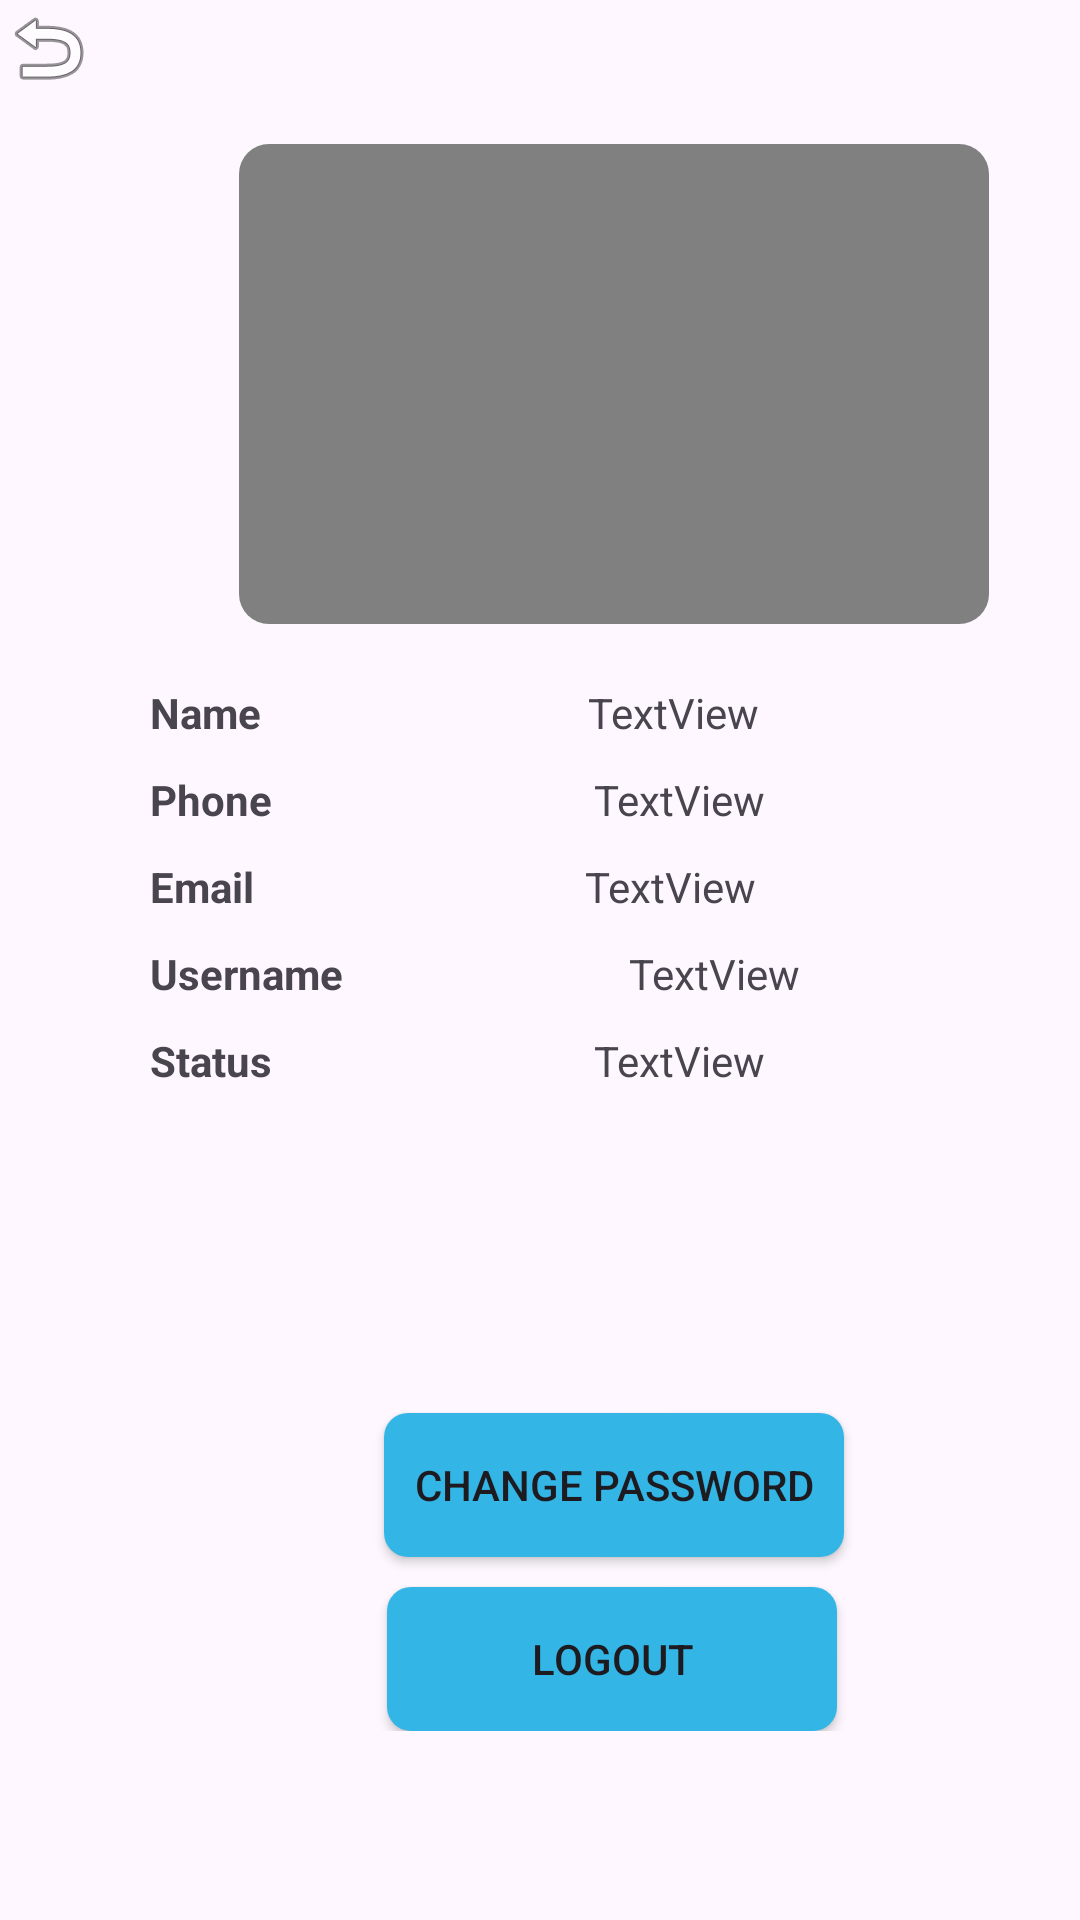

Where icons sit on this 1080x1920 app screen, as (x1, y1, x2, y2):
revert: (15, 17, 84, 80)
